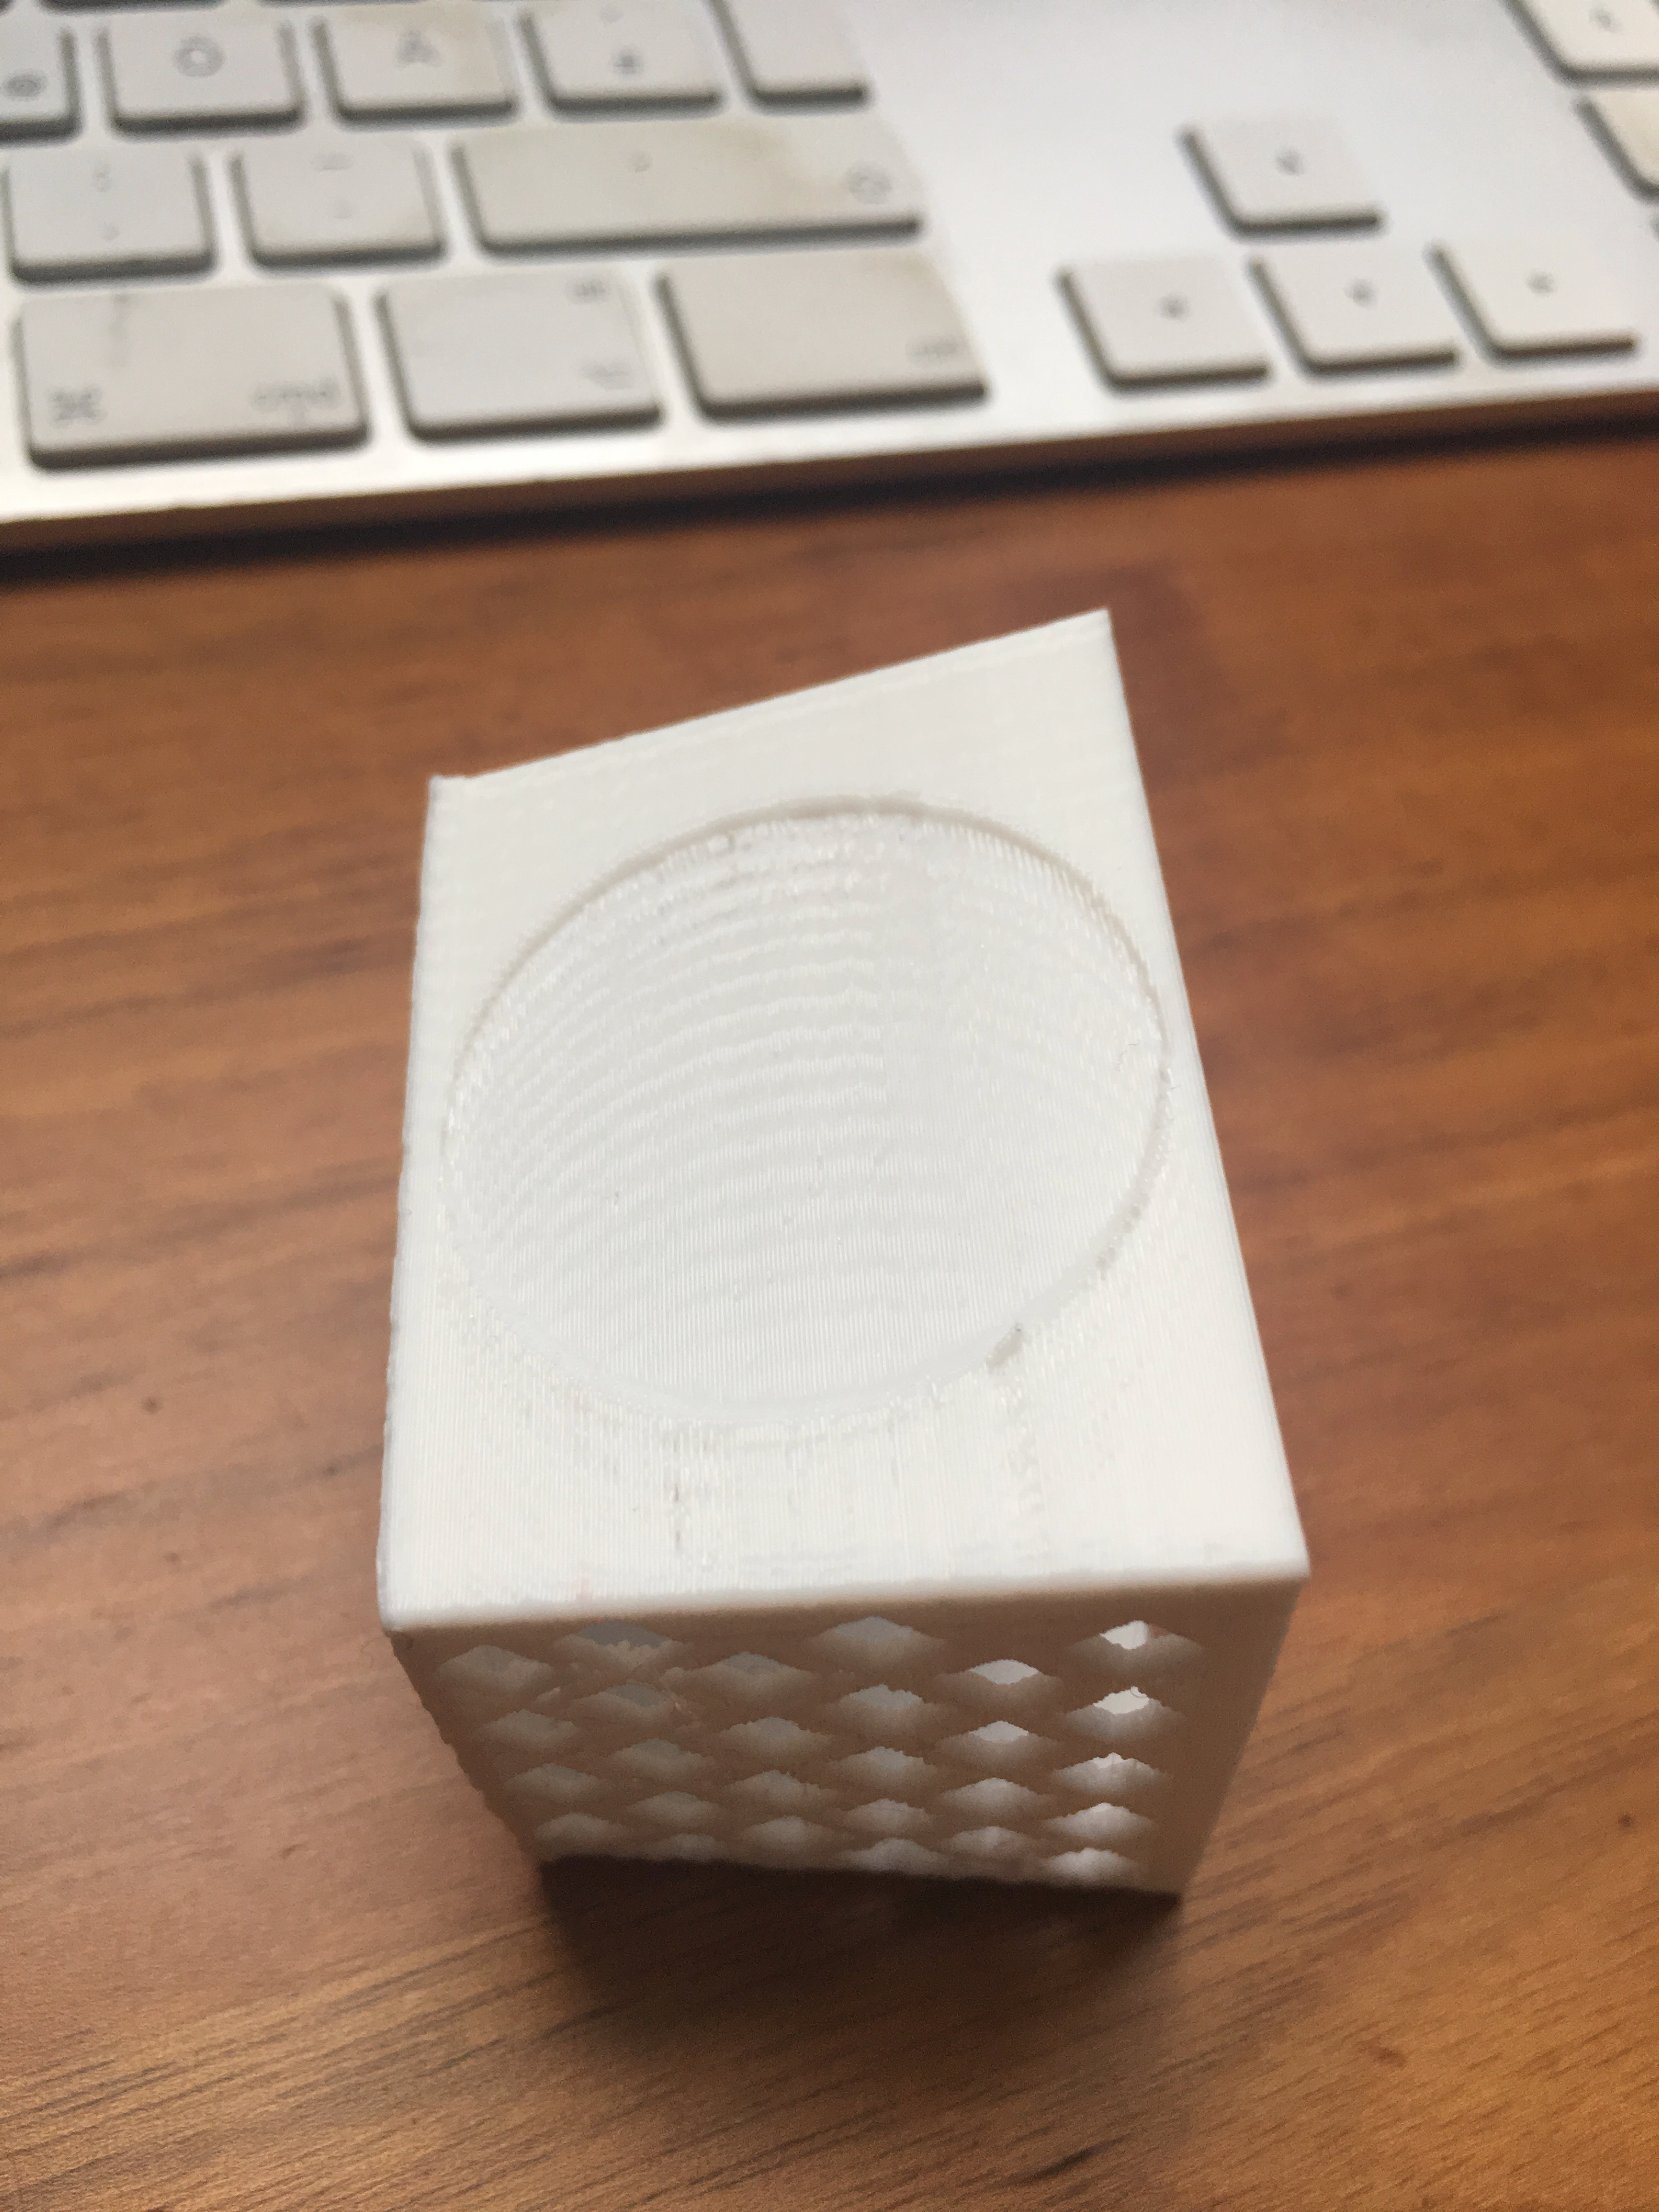3dpripples: (490, 867, 948, 1395)
